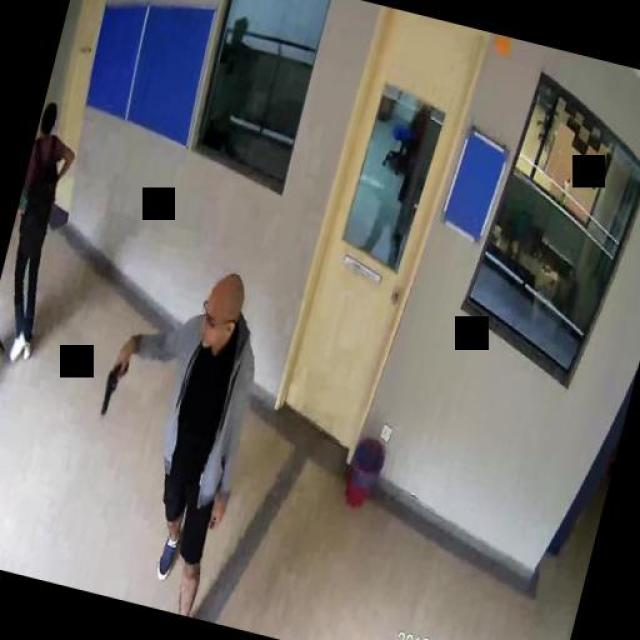gun: (98, 353, 130, 418)
